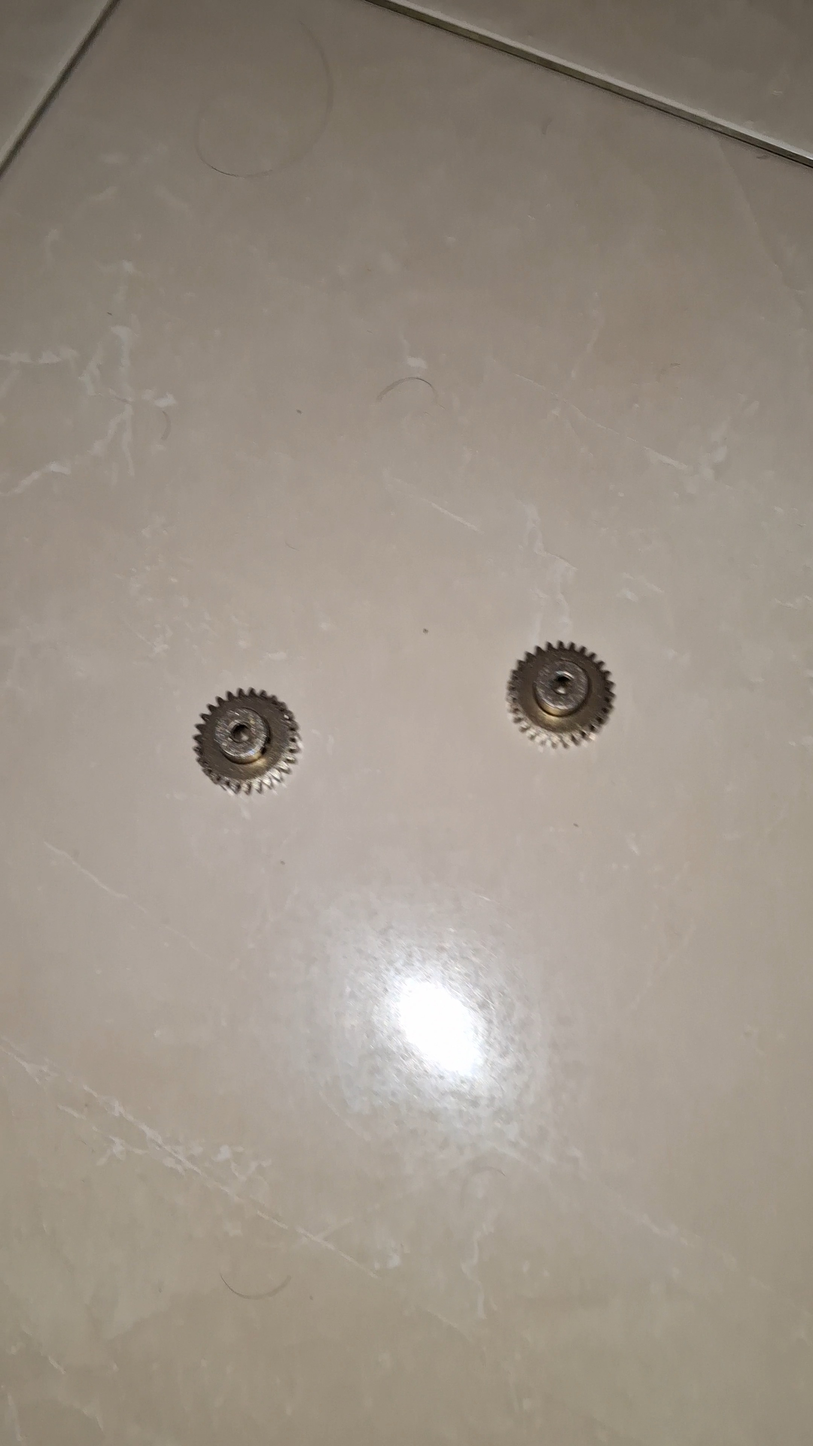spur gear: (493, 639, 599, 741), (184, 688, 288, 791)
